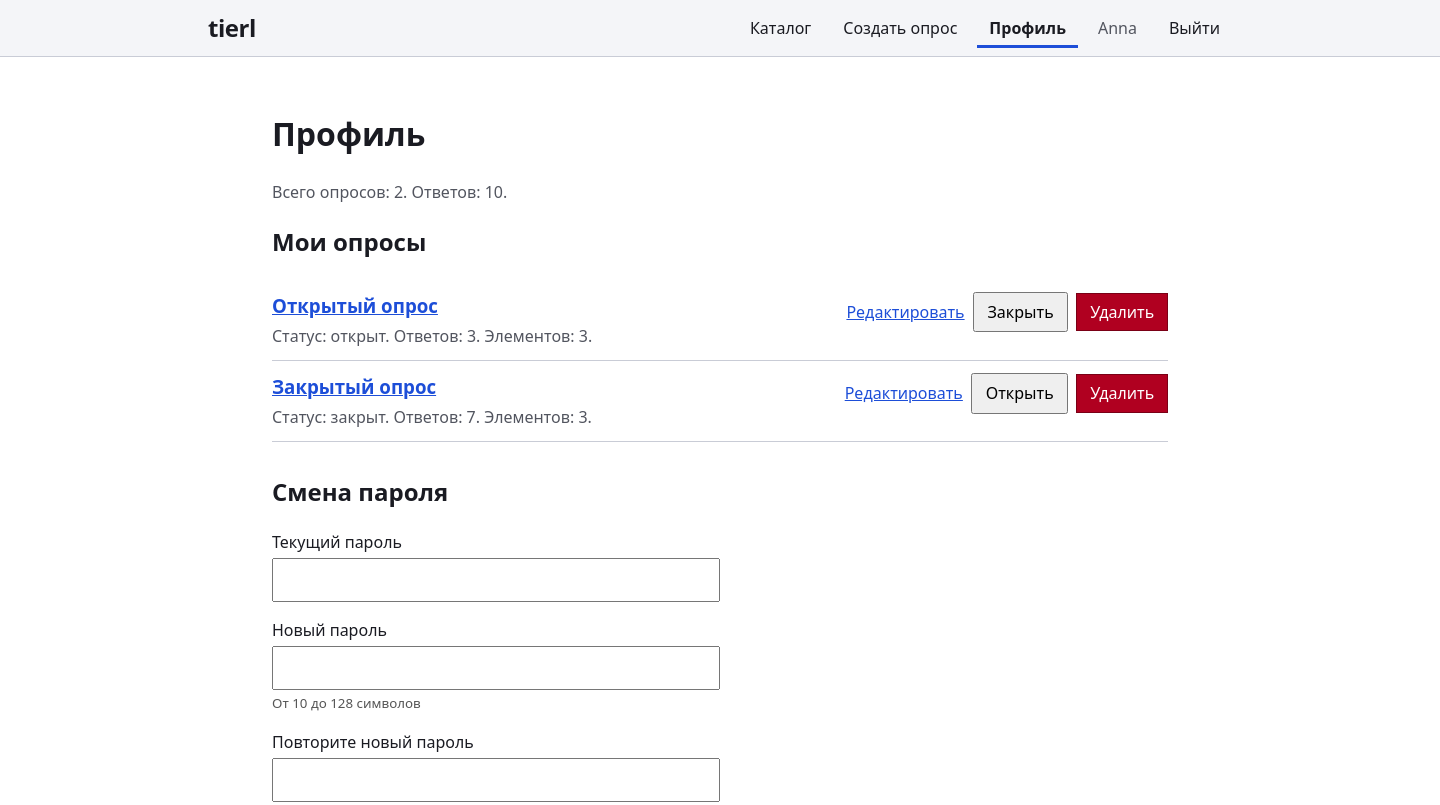
Test: profile › deletes after confirmation
Expected: the heading "Профиль" is shown, [272,112,425,155]
Expected: the link "Открытый опрос" is shown, [272,293,438,318]
Click the button "Удалить" in the row of "Открытый опрос".
click(1122, 312)  # box [1076,293,1168,332]
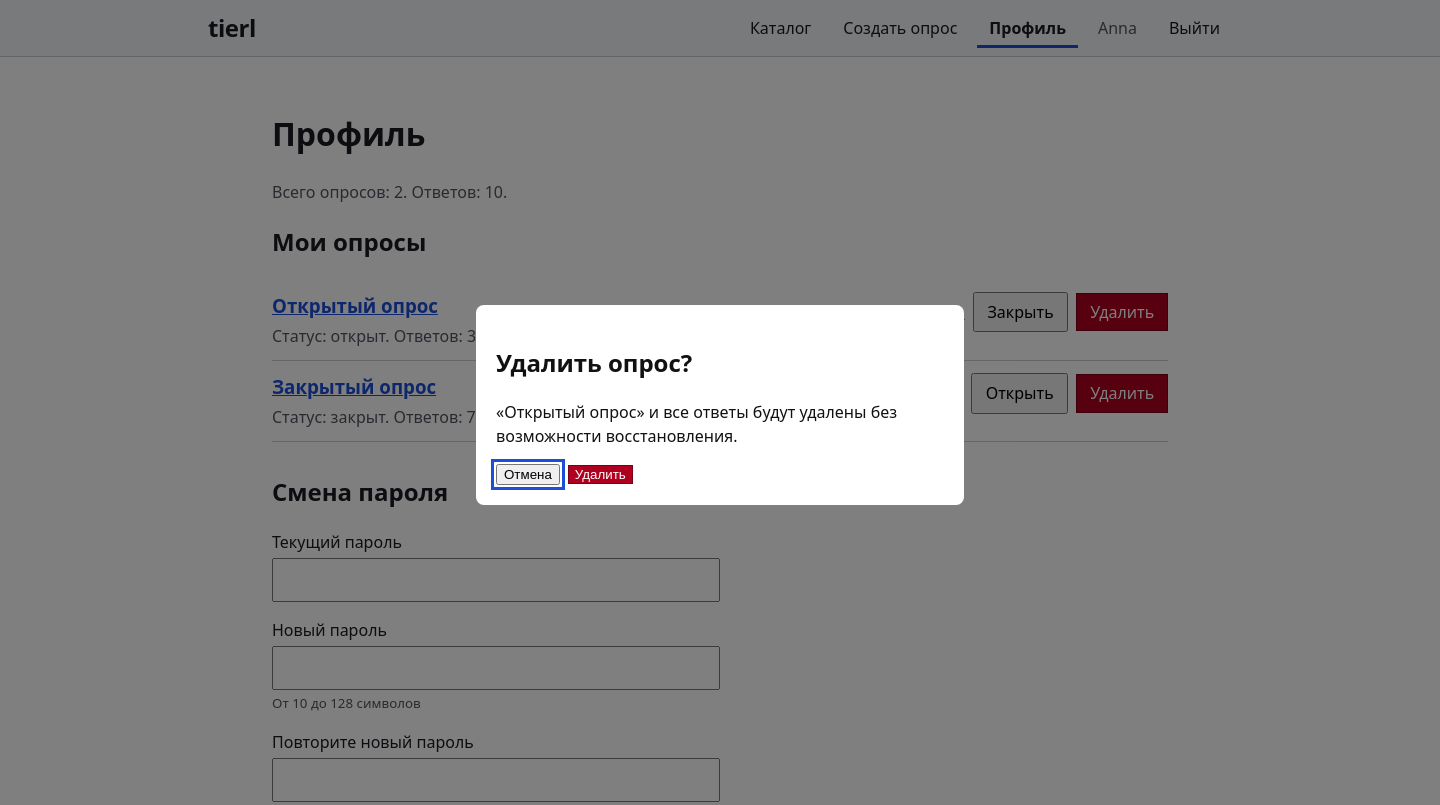
Click the button "Удалить".
click(600, 475)  # box [568,465,633,484]
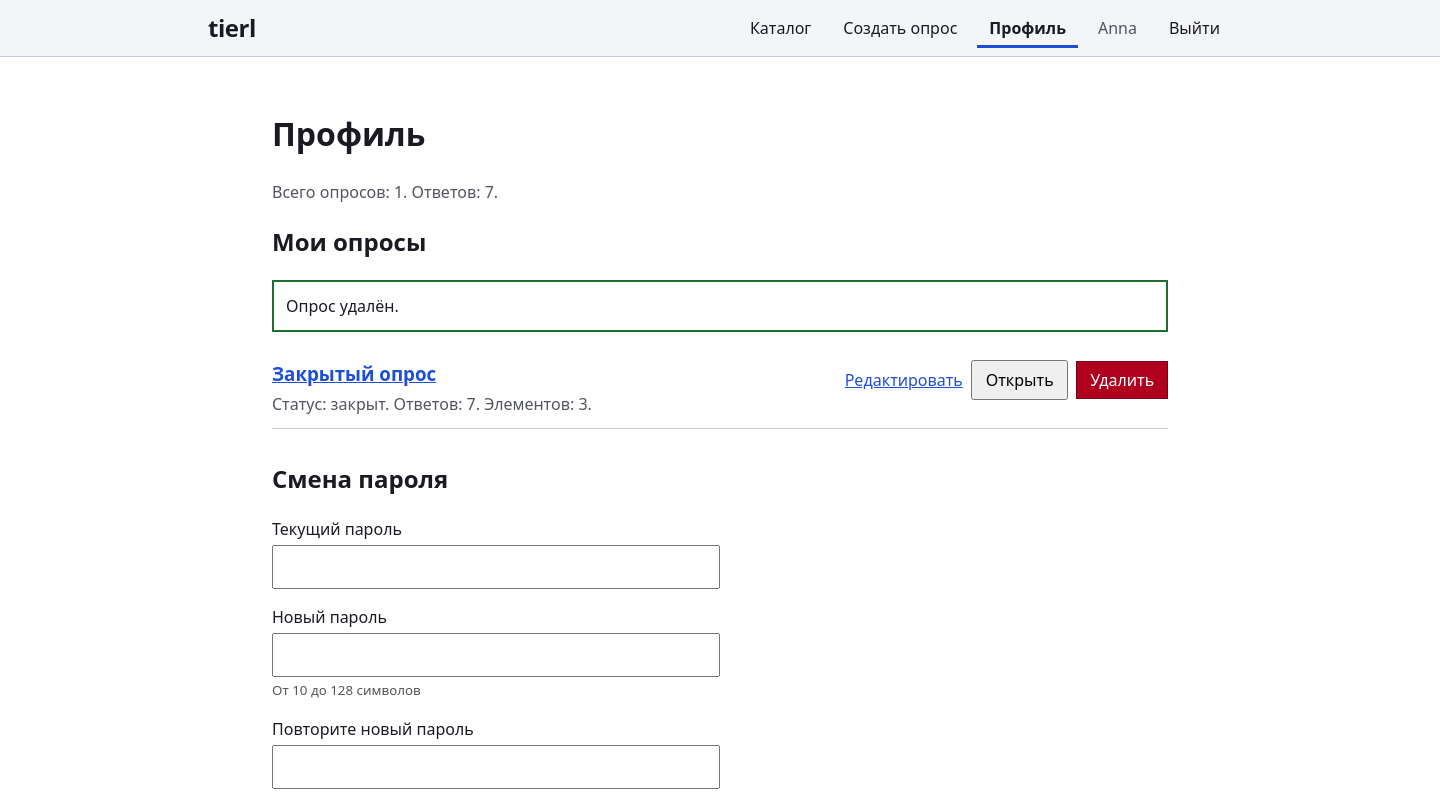
Expected: the text "Опрос удалён." is shown, [272,280,1168,332]
Expected: the link "Открытый опрос" is gone
